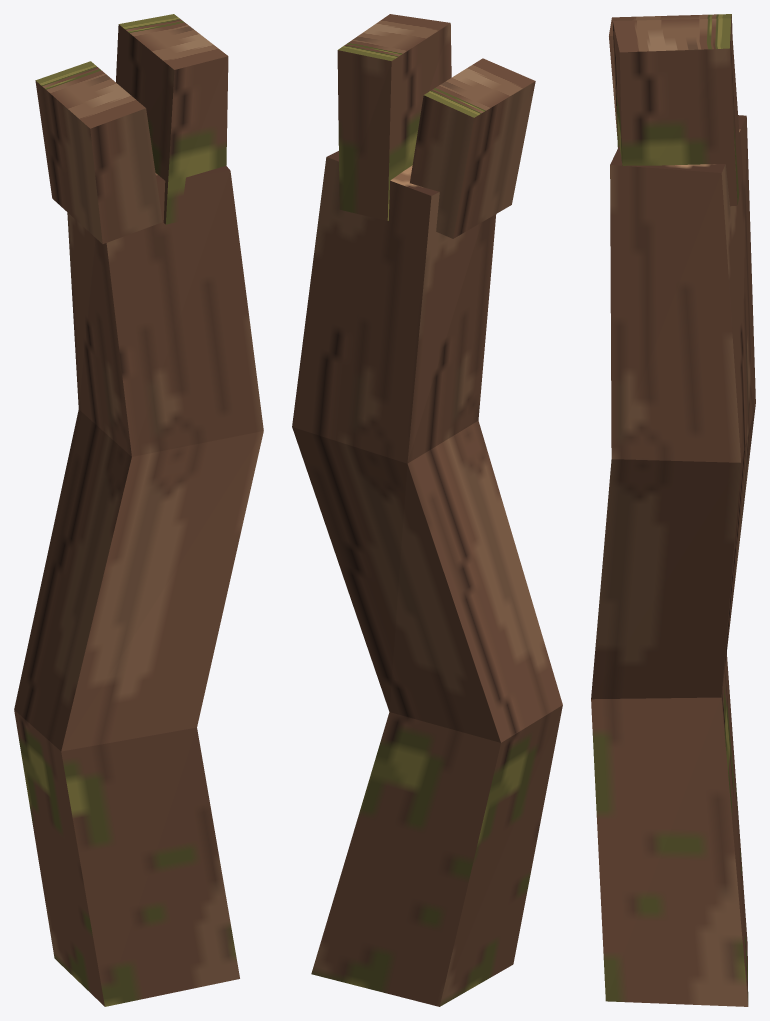
Rendered from SM_ST05_PostCrooked.fbx.
The picture shows the model from 3 angles, left to right: view 1: azimuth 30°, elevation 25°; view 2: azimuth 150°, elevation 25°; view 3: azimuth 270°, elevation 25°; orthographic projection. The views are drawn at different scales.
Visible parts, largest first — view 1: ST05_Post; view 2: ST05_Post; view 3: ST05_Post.
Part boxes in pixels (x1,y1,x2,y2): ST05_Post: (14,14,263,1006); ST05_Post: (292,14,562,1006); ST05_Post: (591,14,755,1006).
Size of the model in its own units: 0.4223 by 1.79 by 0.28.
